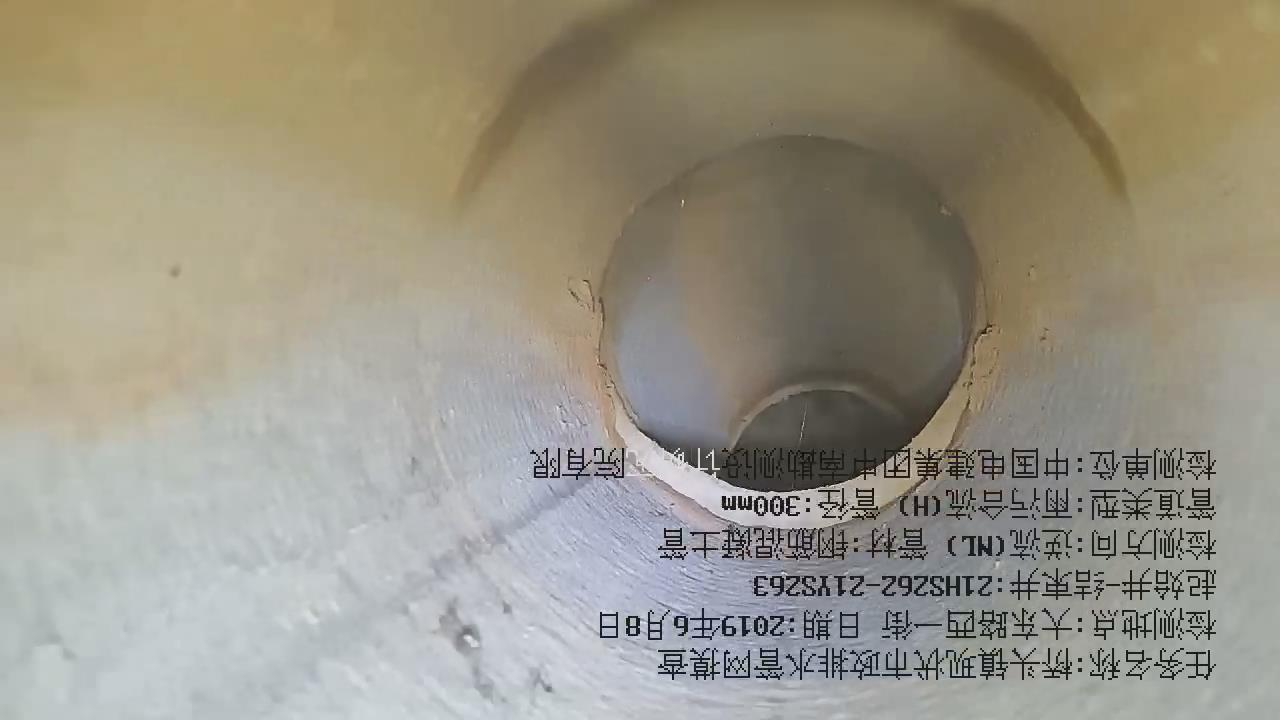CKTJ: (616, 348, 974, 529)
